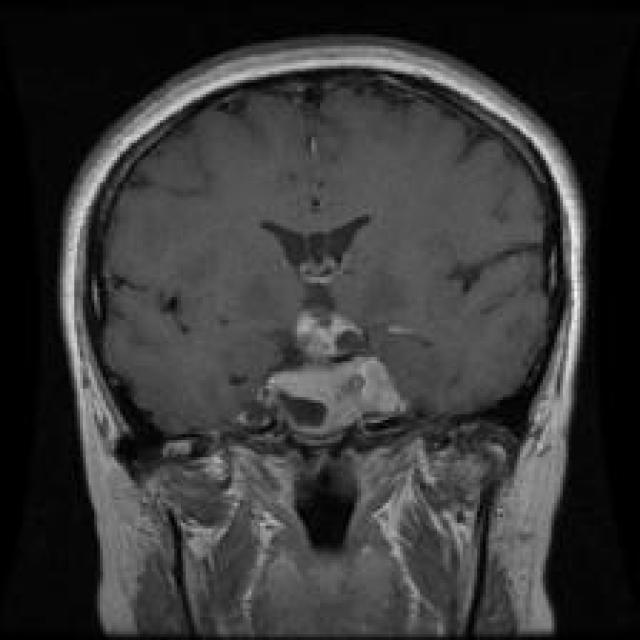pituitary_tumor: (251, 281, 414, 444)
